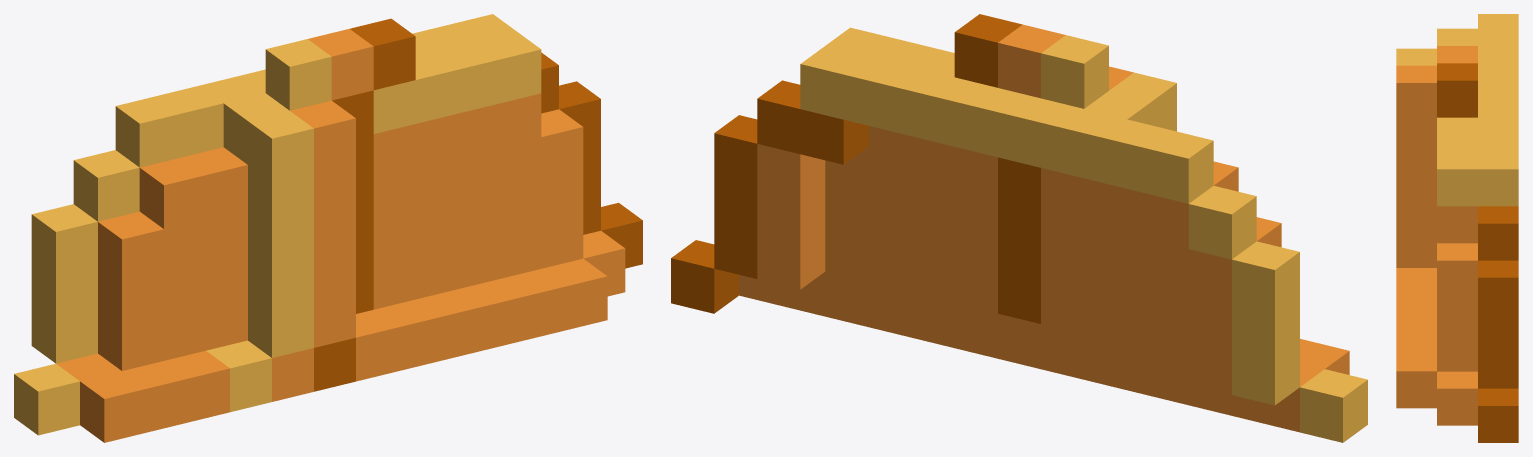
Rendered from bear2-4.obj.
The picture shows the model from 3 angles, left to right: view 1: azimuth 30°, elevation 25°; view 2: azimuth 150°, elevation 25°; view 3: azimuth 270°, elevation 25°; orthographic projection. The views are drawn at different scales.
Bounding box in the file's own units: 1.5 × 0.7 × 0.3.
1 material, 1 textured.
